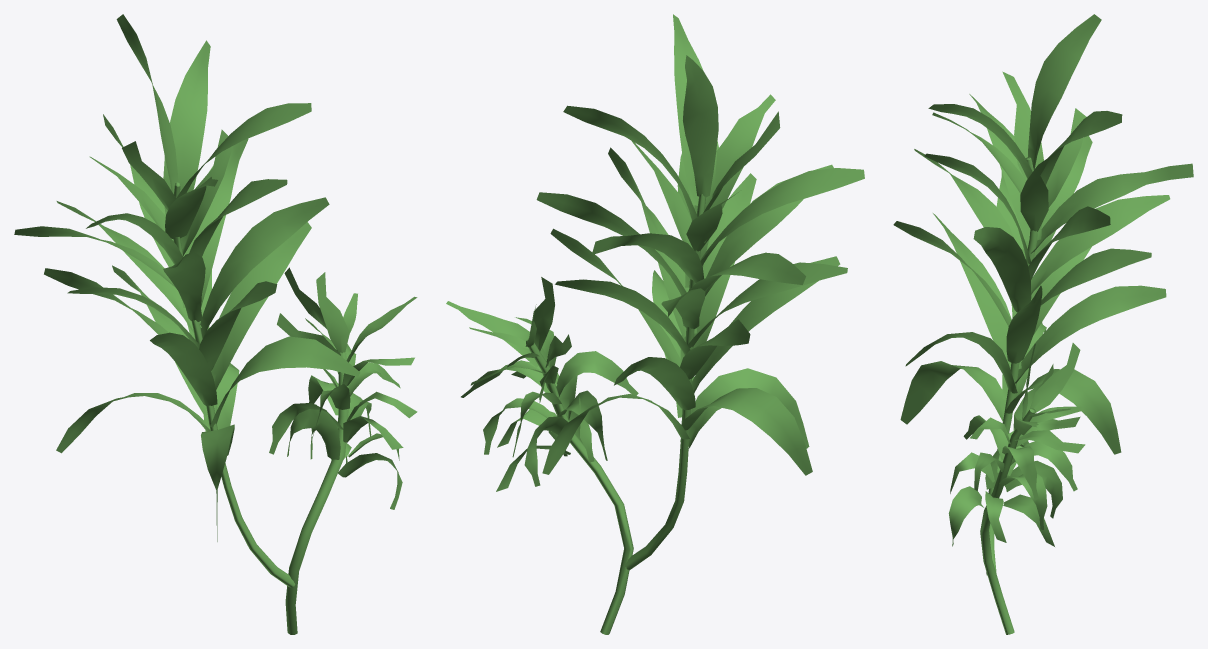
The model's file is SM_Dracaena_04.glb.
The picture shows the model from 3 angles, left to right: view 1: azimuth 30°, elevation 25°; view 2: azimuth 150°, elevation 25°; view 3: azimuth 270°, elevation 25°; orthographic projection. The views are drawn at different scales.
Visible parts, largest first — view 1: SM_Dracaena_04; view 2: SM_Dracaena_04; view 3: SM_Dracaena_04.
Part boxes in pixels (x1,y1,x2,y2): SM_Dracaena_04: (14,14,417,634); SM_Dracaena_04: (446,14,864,634); SM_Dracaena_04: (893,14,1193,634).
Size of what is drawn, in the model's own units: 17.26 by 27.31 by 13.17.
